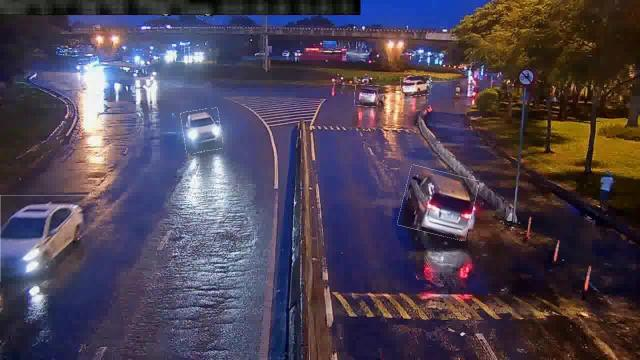Car: (0, 195, 94, 282), (400, 168, 476, 238), (182, 109, 222, 153), (354, 85, 390, 107), (401, 76, 432, 96)
